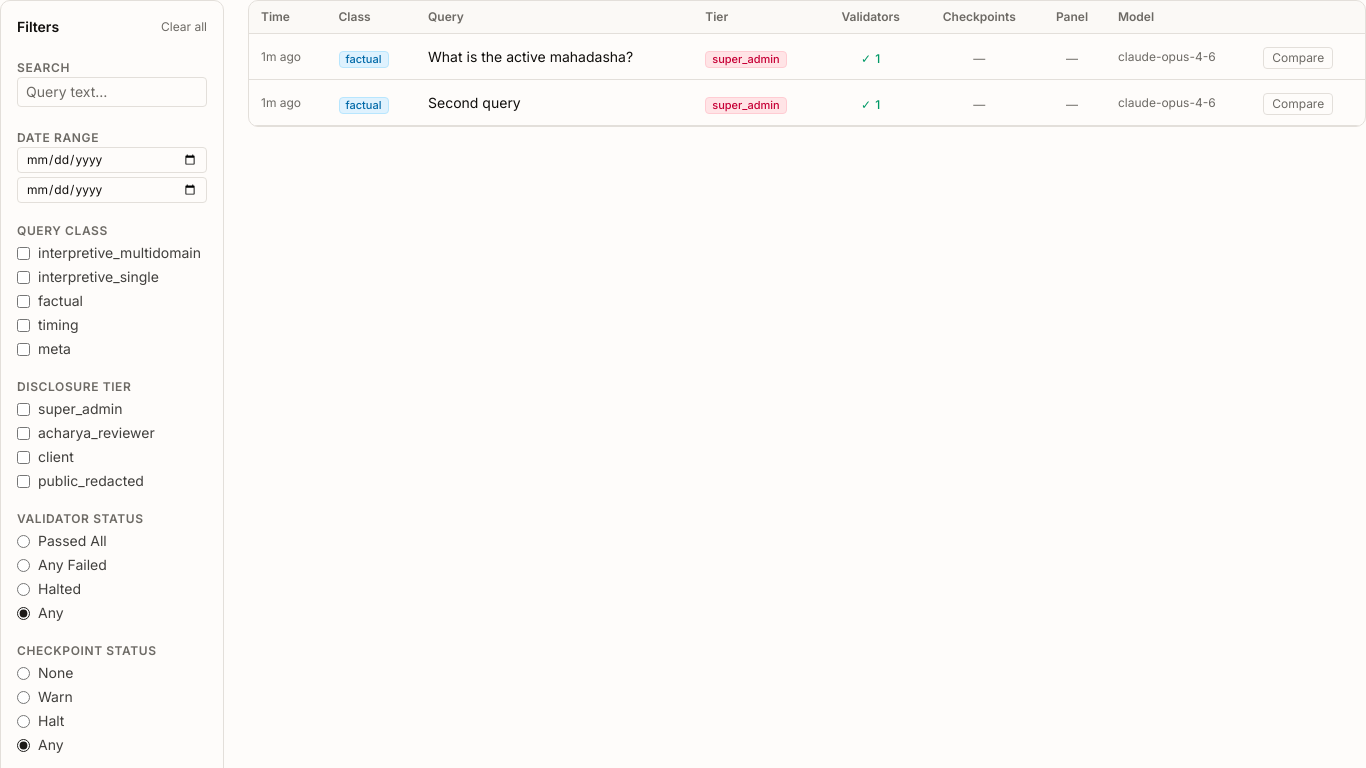
Test: AuditListClient › shows compare link when 2 rows selected
The width and height of the screenshot is (1366, 768).
Click the button with aria-label "Add to compare": (1298, 58) [1263,47,1333,69]
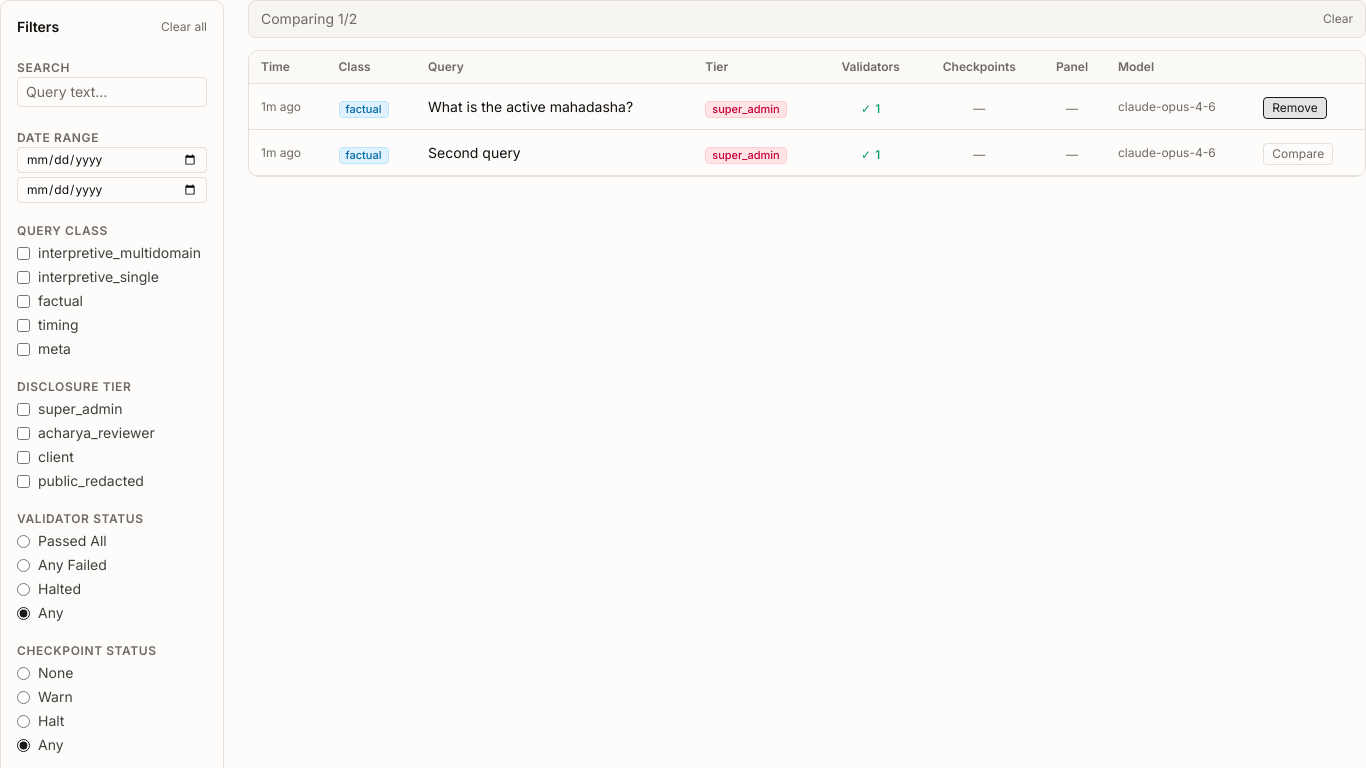
Click the button with aria-label "Add to compare": (1298, 154) [1263,143,1333,165]
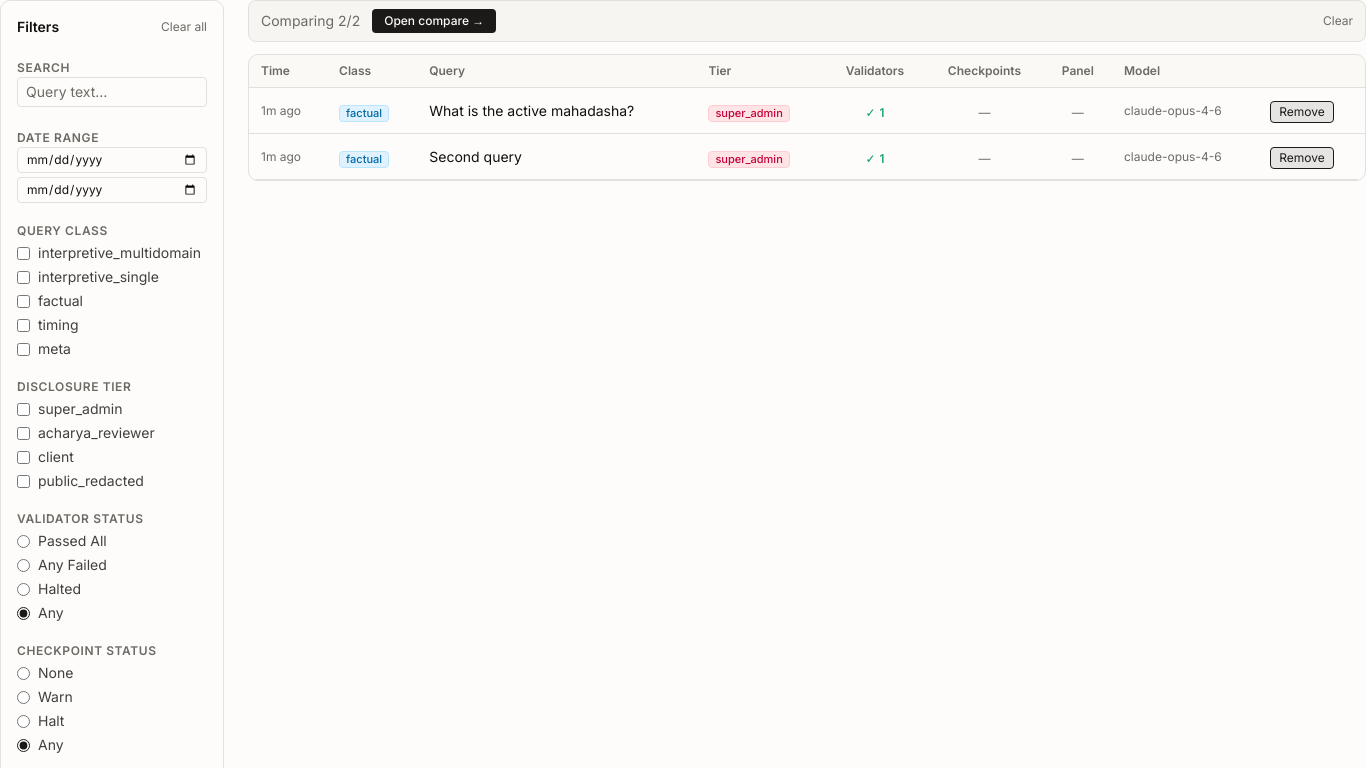
expect the link "Open compare →" is shown: met, box [372,9,496,33]
